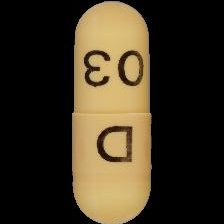66116-407: (0, 0, 224, 224)
